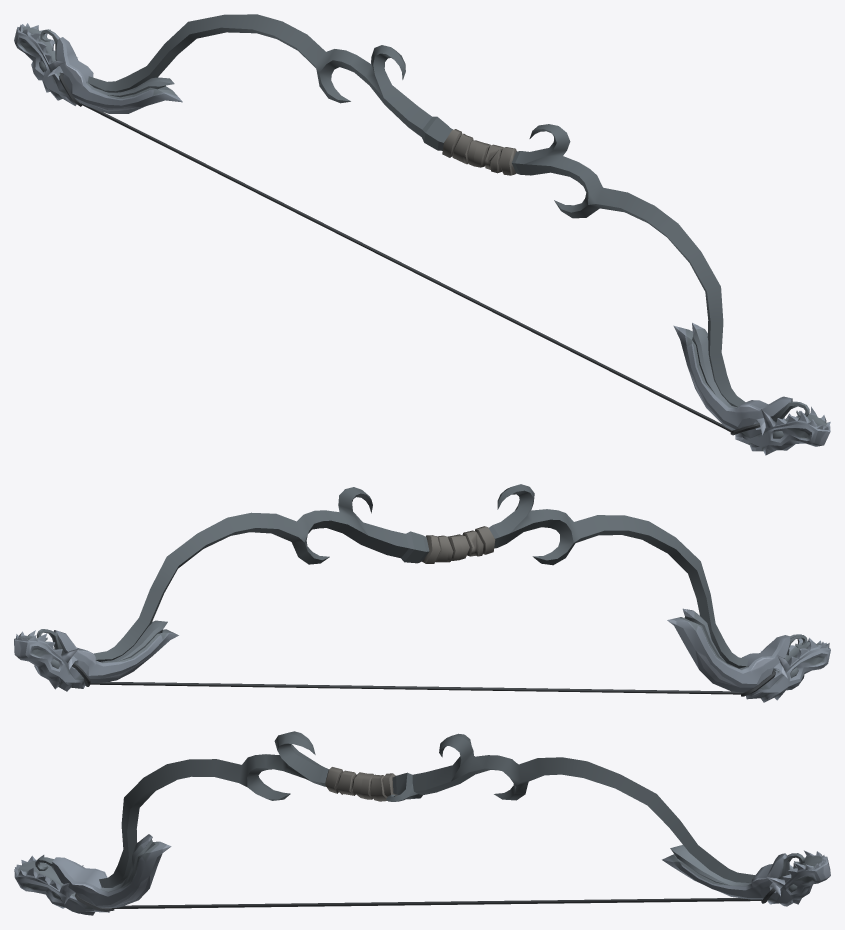
Rendered from bw-recurve-05.glb.
3 views of the same model, one above another, from view 1: azimuth 90°, elevation 25°; view 2: azimuth 150°, elevation 25°; view 3: azimuth 270°, elevation 25° (orthographic).
Parts seen in each view (by area): view 1: bw-recurve-05; view 2: bw-recurve-05; view 3: bw-recurve-05.
Part boxes in pixels (x1,y1,x2,y2): bw-recurve-05: [14, 14, 830, 455]; bw-recurve-05: [14, 484, 830, 702]; bw-recurve-05: [14, 731, 830, 915].
Size of the model in its own units: 0.9209 by 0.6186 by 1.54.
Materials: 1 (1 with a texture image).
